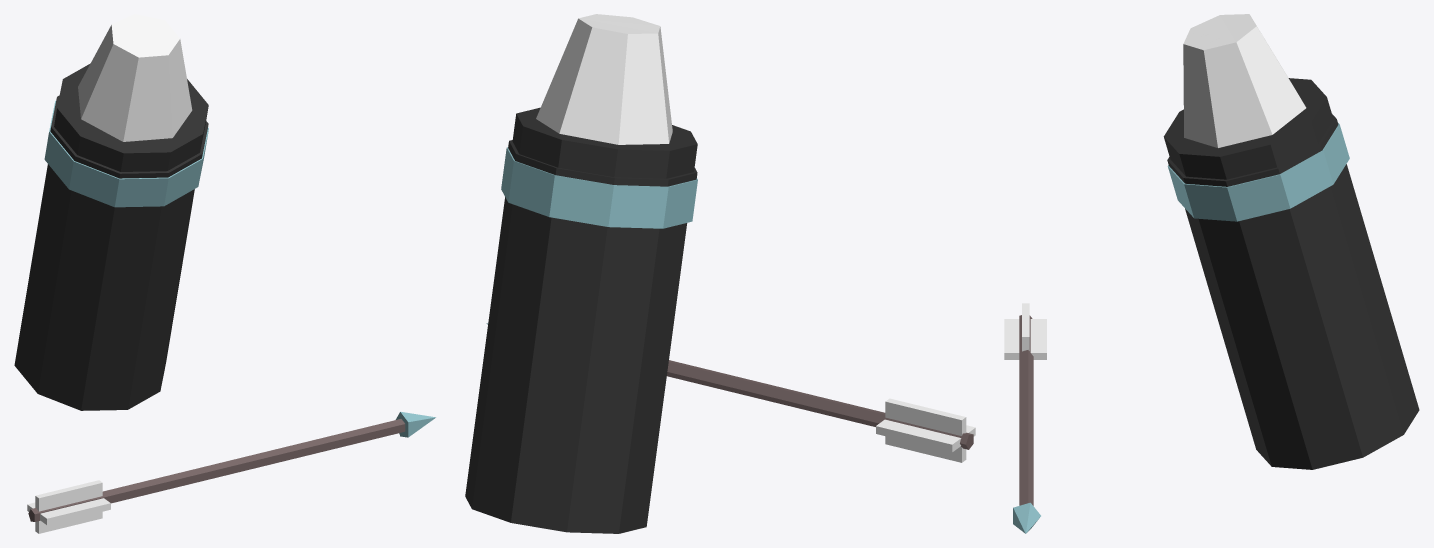
File: ce_ammo2_arrow_plasteel_c.obj
3 views of the same model, side by side, from view 1: azimuth 30°, elevation 25°; view 2: azimuth 150°, elevation 25°; view 3: azimuth 270°, elevation 25° (orthographic). The views are drawn at different scales.
Parts seen in each view (by area): view 1: ce_ammo2_arrow_plasteel_c_0, ce_ammo2_arrow_plasteel_c_2, ce_ammo2_arrow_plasteel_c_1, ce_ammo2_arrow_plasteel_c_3, ce_ammo2_arrow_plasteel_c_6, ce_ammo2_arrow_plasteel_c_5, ce_ammo2_arrow_plasteel_c_4; view 2: ce_ammo2_arrow_plasteel_c_0, ce_ammo2_arrow_plasteel_c_2, ce_ammo2_arrow_plasteel_c_1, ce_ammo2_arrow_plasteel_c_3, ce_ammo2_arrow_plasteel_c_6, ce_ammo2_arrow_plasteel_c_5; view 3: ce_ammo2_arrow_plasteel_c_0, ce_ammo2_arrow_plasteel_c_2, ce_ammo2_arrow_plasteel_c_1, ce_ammo2_arrow_plasteel_c_3, ce_ammo2_arrow_plasteel_c_5, ce_ammo2_arrow_plasteel_c_4.
Boxes of the visible parts, x1,y1,x2,y2 form: ce_ammo2_arrow_plasteel_c_0: [14, 63, 208, 410]; ce_ammo2_arrow_plasteel_c_2: [78, 14, 192, 141]; ce_ammo2_arrow_plasteel_c_1: [44, 101, 208, 207]; ce_ammo2_arrow_plasteel_c_3: [28, 419, 405, 521]; ce_ammo2_arrow_plasteel_c_6: [35, 480, 102, 533]; ce_ammo2_arrow_plasteel_c_5: [27, 498, 110, 525]; ce_ammo2_arrow_plasteel_c_4: [395, 411, 435, 437]; ce_ammo2_arrow_plasteel_c_0: [465, 107, 697, 533]; ce_ammo2_arrow_plasteel_c_2: [536, 14, 672, 144]; ce_ammo2_arrow_plasteel_c_1: [501, 147, 697, 228]; ce_ammo2_arrow_plasteel_c_3: [667, 360, 973, 449]; ce_ammo2_arrow_plasteel_c_6: [885, 398, 966, 462]; ce_ammo2_arrow_plasteel_c_5: [876, 419, 975, 452]; ce_ammo2_arrow_plasteel_c_0: [1163, 78, 1419, 469]; ce_ammo2_arrow_plasteel_c_2: [1183, 14, 1306, 147]; ce_ammo2_arrow_plasteel_c_1: [1167, 123, 1349, 221]; ce_ammo2_arrow_plasteel_c_3: [1019, 315, 1033, 505]; ce_ammo2_arrow_plasteel_c_5: [1004, 319, 1046, 359]; ce_ammo2_arrow_plasteel_c_4: [1013, 502, 1040, 533].
Size of the model in its own units: 0.779 by 0.7249 by 0.6384.
